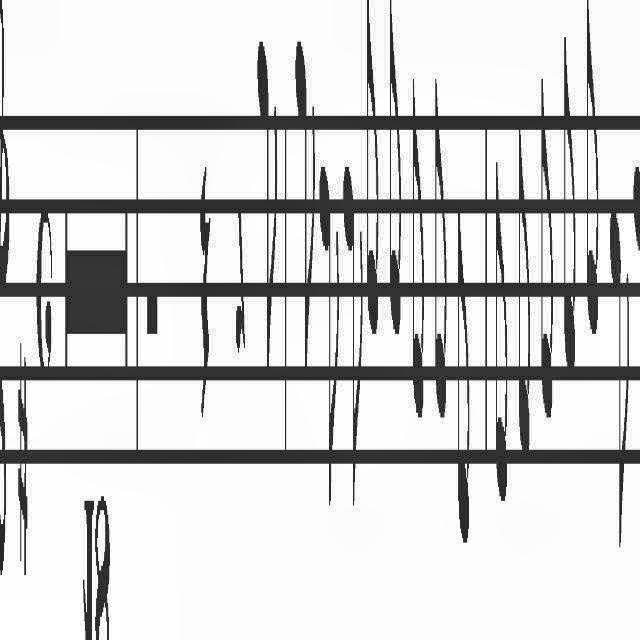Bass-clef: (0, 0, 12, 640)
Diez: (11, 316, 33, 628)
Eighth-note: (253, 4, 281, 384), (451, 168, 473, 616), (294, 0, 318, 408), (341, 130, 364, 536), (318, 100, 340, 524), (606, 198, 630, 582), (538, 41, 558, 487), (491, 92, 511, 524), (560, 0, 580, 422), (408, 77, 428, 460), (514, 65, 532, 483), (432, 54, 450, 460), (384, 0, 404, 356), (584, 0, 602, 384), (365, 0, 383, 356), (631, 144, 640, 538), (639, 144, 640, 538)
Eighth-rest: (228, 124, 248, 422)
Quarter-rest: (192, 69, 212, 468)
